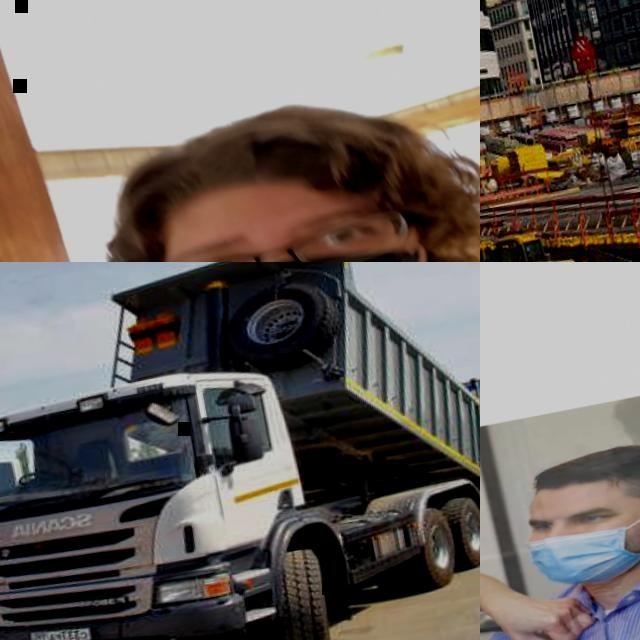Mask: (525, 519, 639, 597)
NO-Hardhat: (102, 79, 446, 254), (521, 433, 640, 517), (603, 388, 640, 444)
Person: (0, 47, 480, 262), (480, 405, 640, 640), (480, 413, 587, 640), (618, 383, 640, 491)
machinery: (0, 262, 480, 640), (480, 217, 594, 262)
